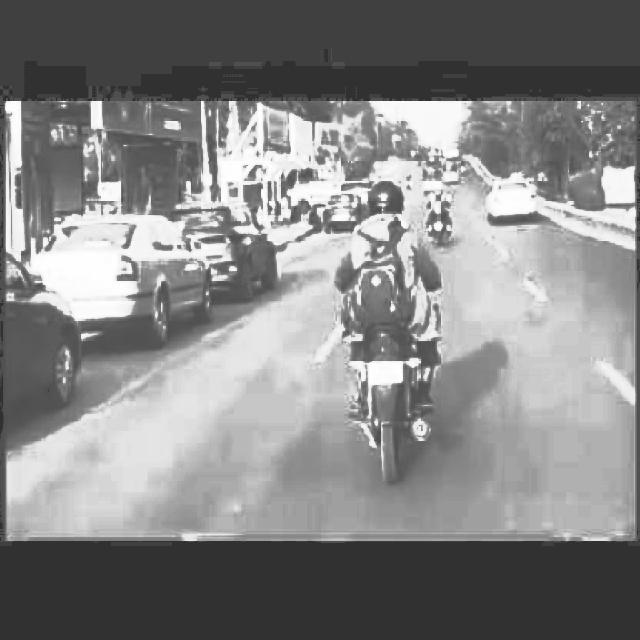Car: (60, 213, 191, 324), (196, 204, 276, 296), (5, 263, 58, 396), (486, 174, 541, 238)
